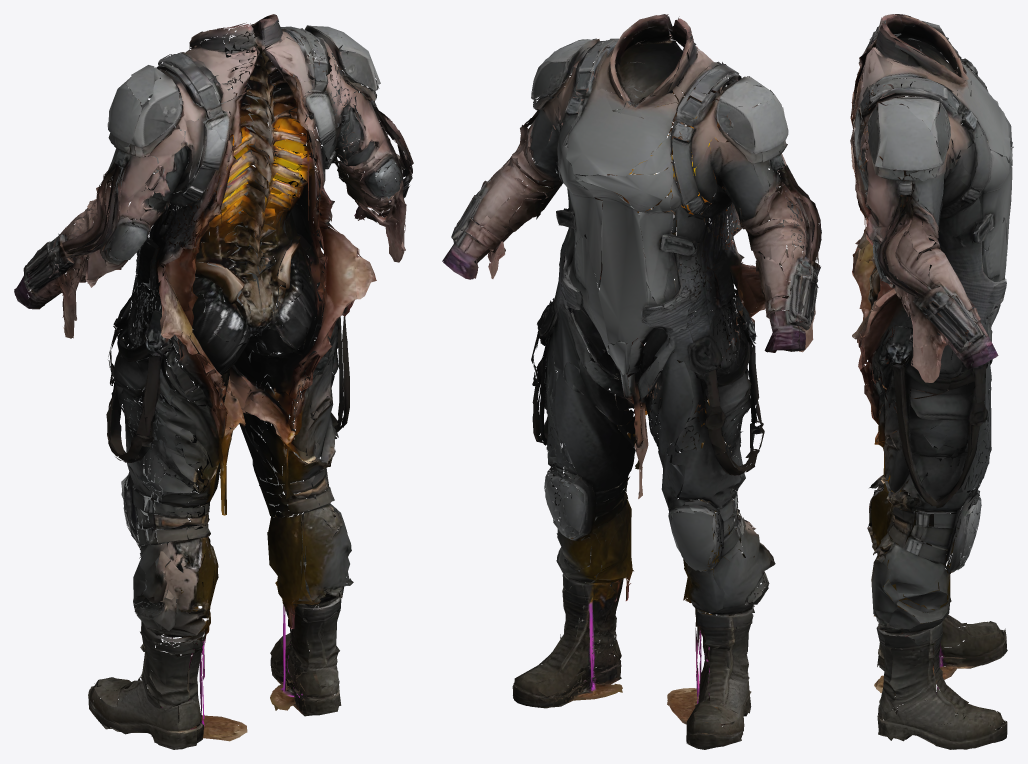
File: tina_molted_carapace.glb
3 renders of one model, left to right at view 1: azimuth 30°, elevation 25°; view 2: azimuth 150°, elevation 25°; view 3: azimuth 270°, elevation 25°, orthographic. The views are drawn at different scales.
Parts seen in each view (by area): view 1: node_0; view 2: node_0; view 3: node_0.
Boxes of the visible parts, <box> form: node_0: <box>14,14,413,749</box>; node_0: <box>442,14,821,749</box>; node_0: <box>850,14,1013,749</box>.
Size of the model in its own units: 0.6392 by 1.15 by 0.2492.
1 material, 1 textured.
